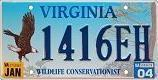placa de veiculo: (2, 0, 154, 78)
